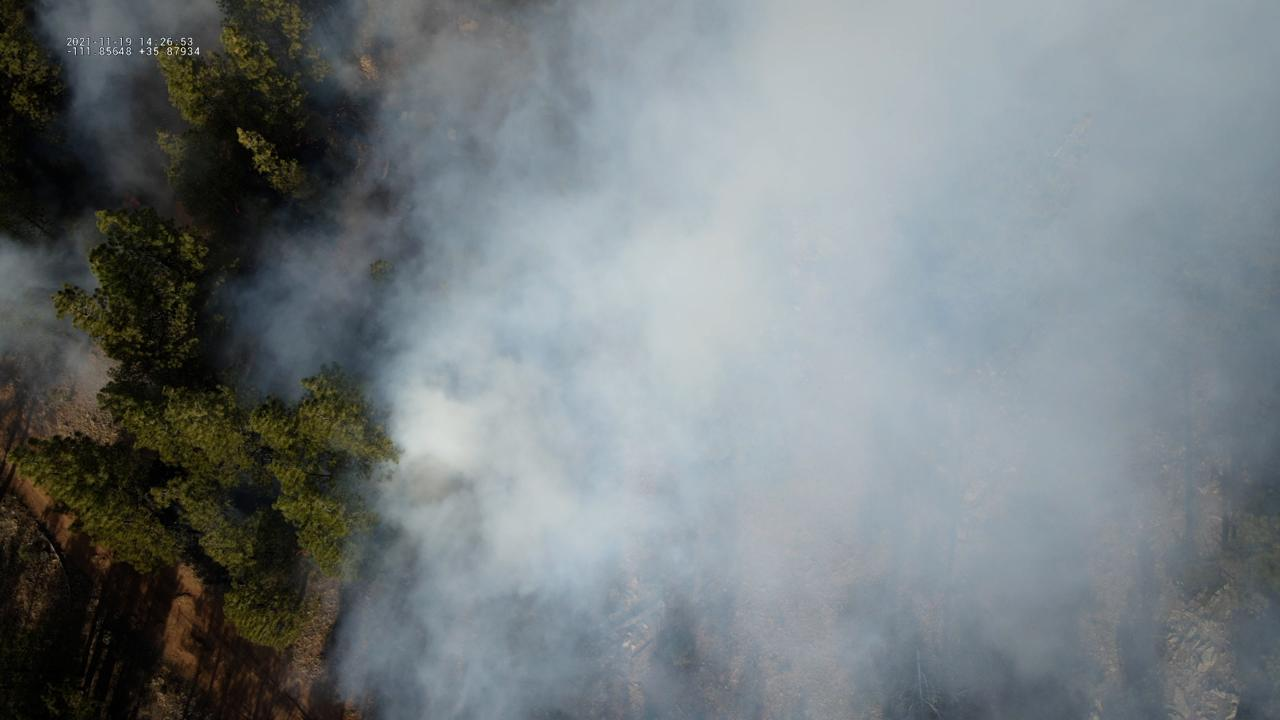fire: (120, 190, 142, 208)
smoke: (231, 0, 1280, 720), (0, 0, 229, 404)
